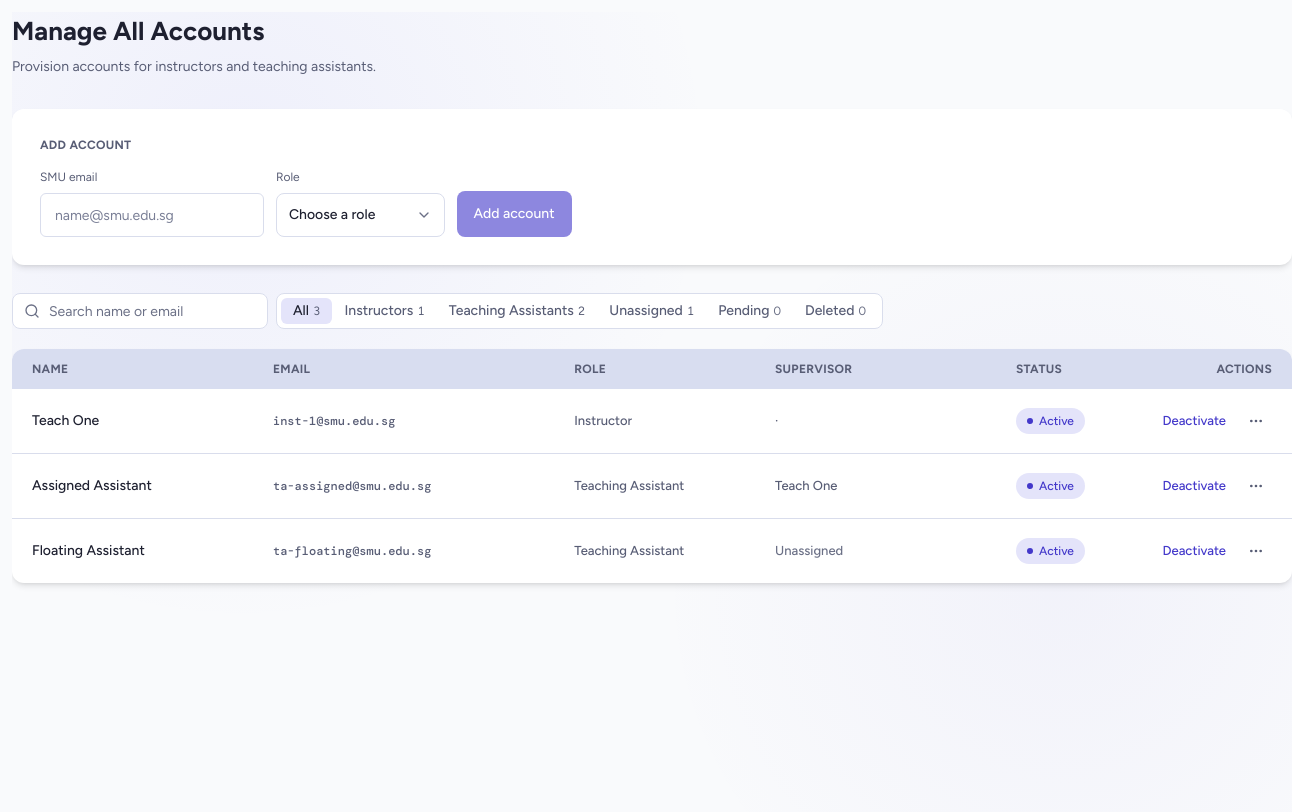
Test: UsersPage - finding accounts › counts each filter and searches by name or email
Check: the radio button labelled "All 3" is shown, box [281,298,332,324]
Check: the radio button labelled "Unassigned 1" is shown, box [597,298,706,324]
Type "floating" into the search field named "Search accounts" at point(140, 311), box [12,293,268,329]
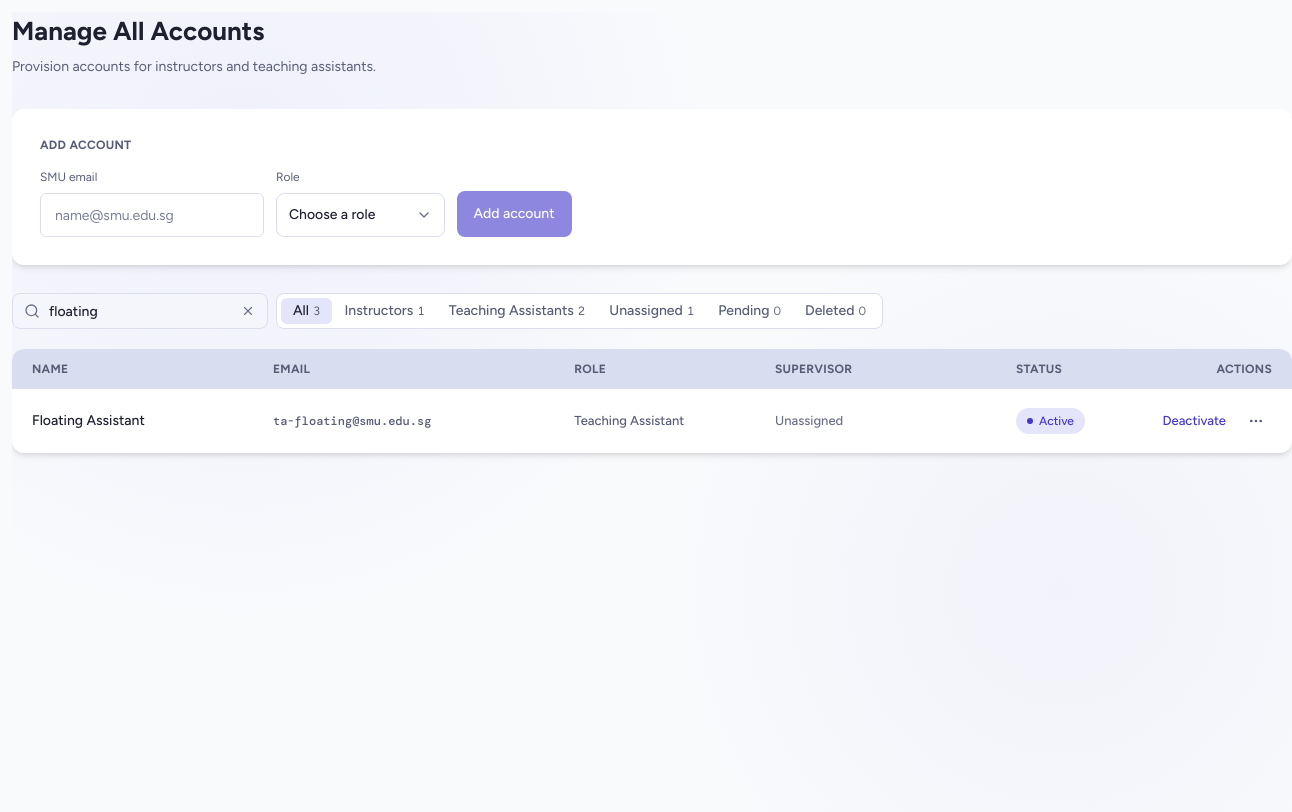
Check: the text "Assigned Assistant" is gone
